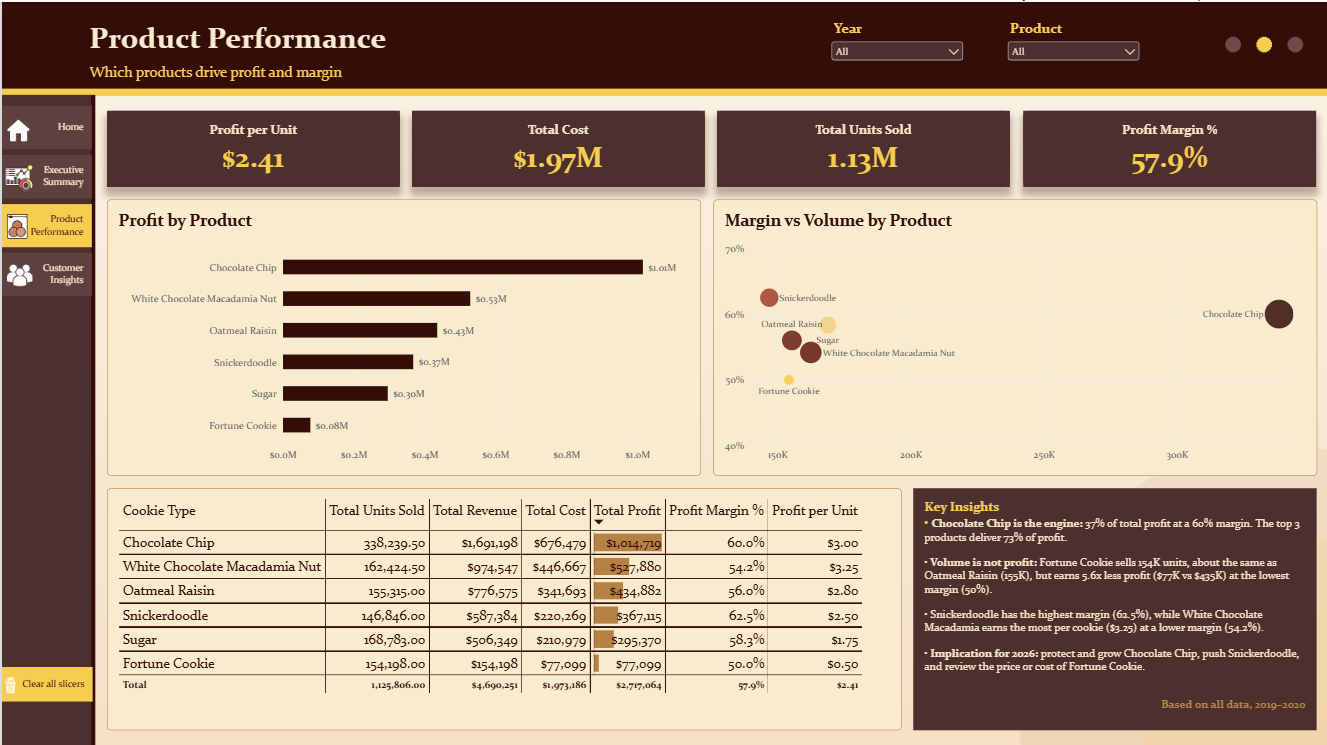

What the dashboard file says about the page in this screenshot:
{"tool":"powerbi","page":{"name":"Product Performance","canvas":[1920,1080],"ordinal":2},"visuals":[{"type":"pageNavigator","box":[0,150,130.6,276.2],"z":0},{"type":"actionButton","box":[0,962,131.2,50],"z":1000},{"type":"image","box":[2.9,170,40,32.1],"z":2000},{"type":"image","box":[4.3,302.9,36.4,45.7],"z":3000},{"type":"image","box":[4.2,214.2,42.6,84.2],"z":4000},{"type":"image","box":[7.1,371.8,36.5,50],"z":5000},{"type":"image","box":[0,963.8,25,48.8],"z":6000},{"type":"cardVisual","fields":{"Data":["All Measures.Total Cost"]},"box":[594,158,424,110],"z":7000},{"type":"cardVisual","fields":{"Data":["All Measures.Total Units Sold"]},"box":[1036,158,424,110],"z":8000},{"type":"cardVisual","fields":{"Data":["All Measures.Profit per Unit"]},"box":[152,158,424,110],"z":9000},{"type":"textbox","box":[126,25,568,62],"z":10000},{"type":"textbox","box":[126,88,458,62],"z":11000},{"type":"slicer","fields":{"Values":["DatesTable.Year"]},"box":[1196,26,200,98],"z":12000},{"type":"slicer","fields":{"Values":["Orders.Product"]},"box":[1452,26,200,65],"z":13000},{"type":"cardVisual","fields":{"Data":["All Measures.Profit Margin %"]},"box":[1478,158,424,110],"z":14000},{"type":"clusteredBarChart","title":"Profit by Product","fields":{"Category":["Cookie Types.Cookie Type"],"Y":["All Measures.Total Profit"]},"box":[152,286,860,400],"z":15000},{"type":"scatterChart","title":"Margin vs Volume by Product","fields":{"Category":["Cookie Types.Cookie Type"],"Series":["Cookie Types.Cookie Type"],"Size":["All Measures.Total Profit"],"X":["All Measures.Total Units Sold"],"Y":["All Measures.Profit Margin %"]},"box":[1030,286,874,400],"z":16000},{"type":"tableEx","fields":{"Values":["Cookie Types.Cookie Type","All Measures.Total Units Sold","All Measures.Total Revenue","All Measures.Total Cost","All Measures.Total Profit","All Measures.Profit Margin %","All Measures.Profit per Unit"]},"box":[152,704,1150,350],"z":17000},{"type":"textbox","box":[1320,704,584,350],"z":18000}]}

Visuals, with their boxes in screenshot pixels (x1, y1, x2, y2), scaled from the page's 1920x1080 canvas onto the 1327x745 screenshot:
pageNavigator: x1=0 y1=103 x2=90 y2=294
actionButton: x1=0 y1=664 x2=91 y2=698
image: x1=2 y1=117 x2=30 y2=139
image: x1=3 y1=209 x2=28 y2=240
image: x1=3 y1=148 x2=32 y2=206
image: x1=5 y1=256 x2=30 y2=291
image: x1=0 y1=665 x2=17 y2=699
cardVisual - All Measures.Total Cost: x1=411 y1=109 x2=704 y2=185
cardVisual - All Measures.Total Units Sold: x1=716 y1=109 x2=1009 y2=185
cardVisual - All Measures.Profit per Unit: x1=105 y1=109 x2=398 y2=185
textbox: x1=87 y1=17 x2=480 y2=60
textbox: x1=87 y1=61 x2=404 y2=103
slicer - DatesTable.Year: x1=827 y1=18 x2=965 y2=86
slicer - Orders.Product: x1=1004 y1=18 x2=1142 y2=63
cardVisual - All Measures.Profit Margin %: x1=1022 y1=109 x2=1315 y2=185
"Profit by Product" clusteredBarChart: x1=105 y1=197 x2=699 y2=473
"Margin vs Volume by Product" scatterChart: x1=712 y1=197 x2=1316 y2=473
tableEx - Cookie Types.Cookie Type x All Measures.Total Units Sold: x1=105 y1=486 x2=900 y2=727
textbox: x1=912 y1=486 x2=1316 y2=727
